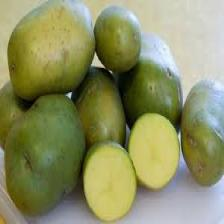Defected potato: (4, 86, 83, 218), (7, 0, 96, 100), (110, 23, 186, 137), (71, 54, 132, 165), (179, 75, 224, 185), (91, 3, 144, 76)
